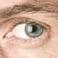eye: (26, 23, 42, 37)
